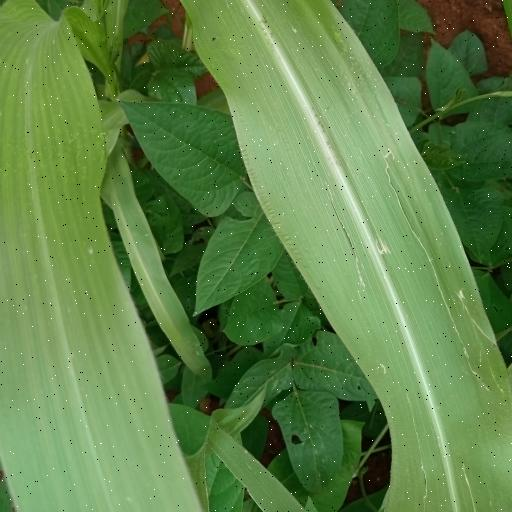Corn_Brown_Spots: (179, 4, 512, 496), (0, 0, 153, 512)
